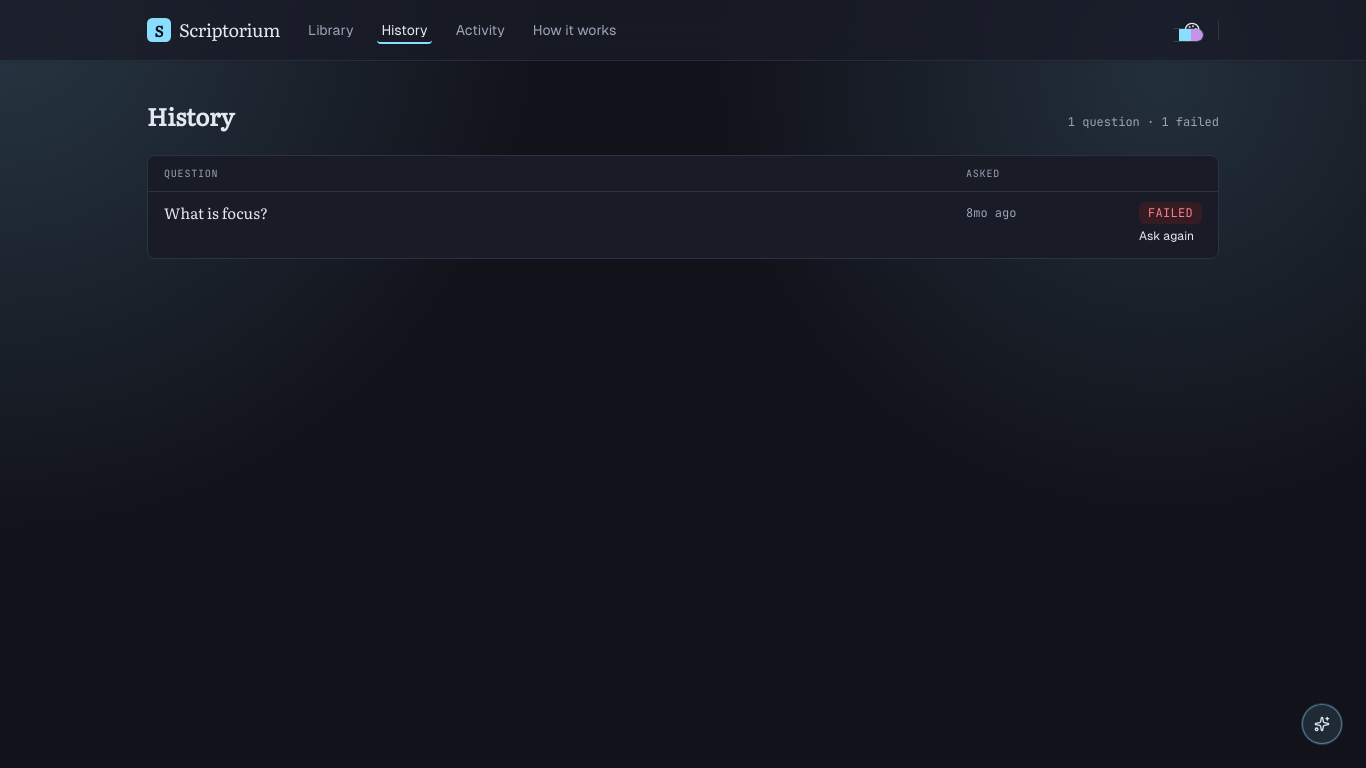
Test: a failed history row shows a failed chip and re-asks via the widget
Expected: the text "failed" is shown, [1139,202,1202,224]
Click the button "Ask again". click: click(1167, 236)
box: [1131,224,1202,248]
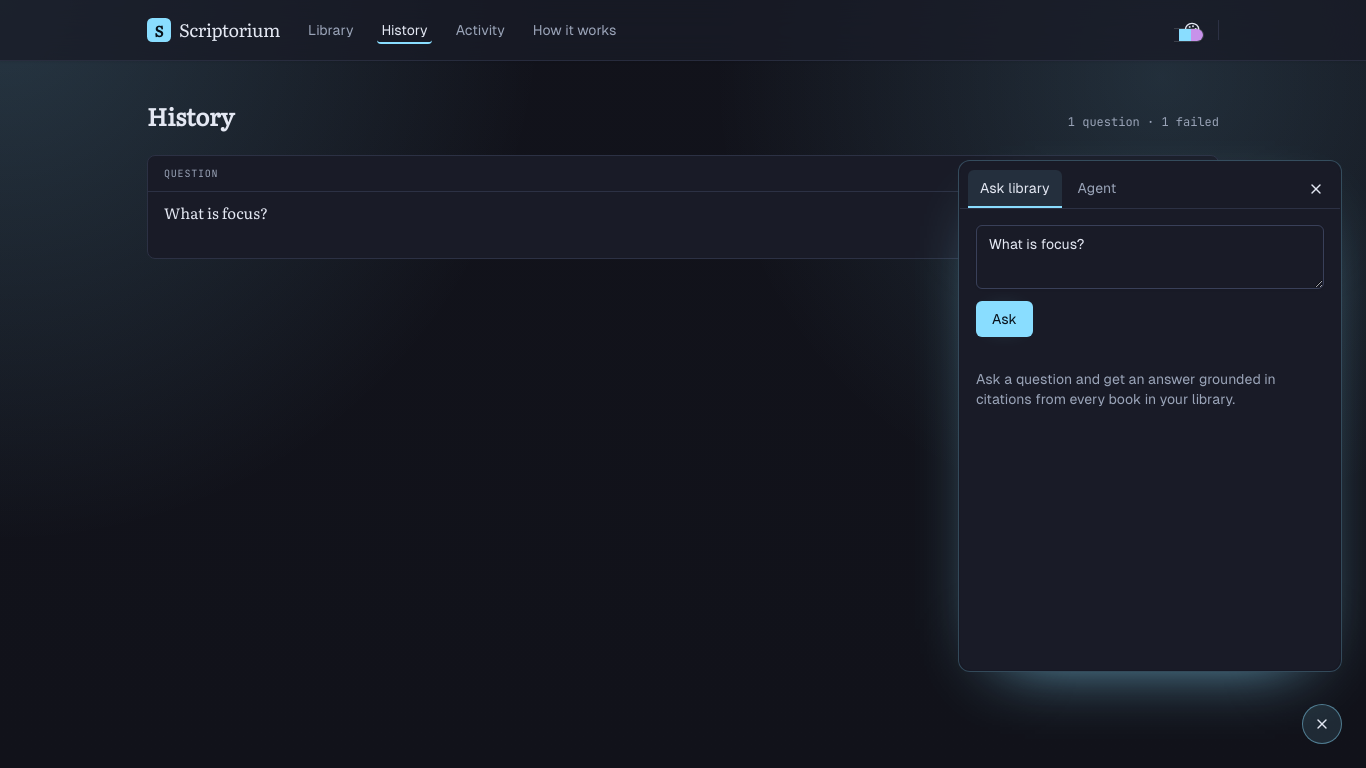
Expected: the text box named "question" holds "What is focus?", [976,225,1324,289]
